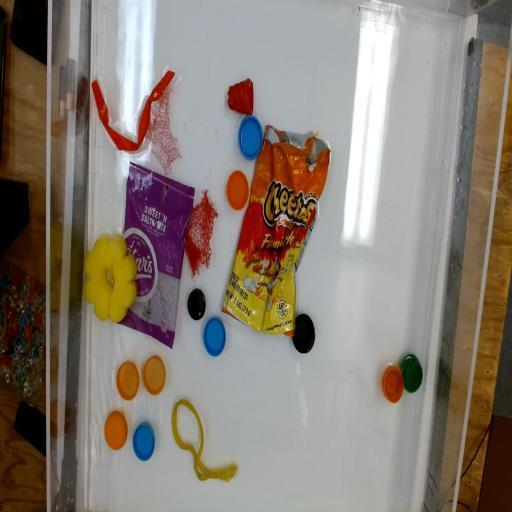Bottle Cap: (236, 116, 264, 160), (141, 352, 166, 397), (382, 362, 406, 406), (226, 168, 250, 212), (292, 314, 314, 357), (204, 316, 226, 356), (402, 351, 422, 395), (134, 423, 156, 462), (116, 362, 138, 400), (106, 412, 128, 450), (188, 289, 206, 323)
Cone Cap: (228, 79, 254, 118)
Netting: (186, 191, 220, 282), (150, 87, 184, 172)
Plastic Bag: (220, 123, 333, 335), (116, 162, 195, 350)
Plastic Strand: (92, 66, 174, 156), (173, 398, 239, 484)
Sponge: (85, 234, 136, 326)
